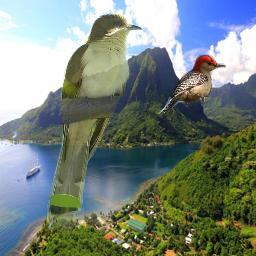Cuckoo: (46, 13, 143, 230)
Woodpecker: (157, 54, 228, 115)
